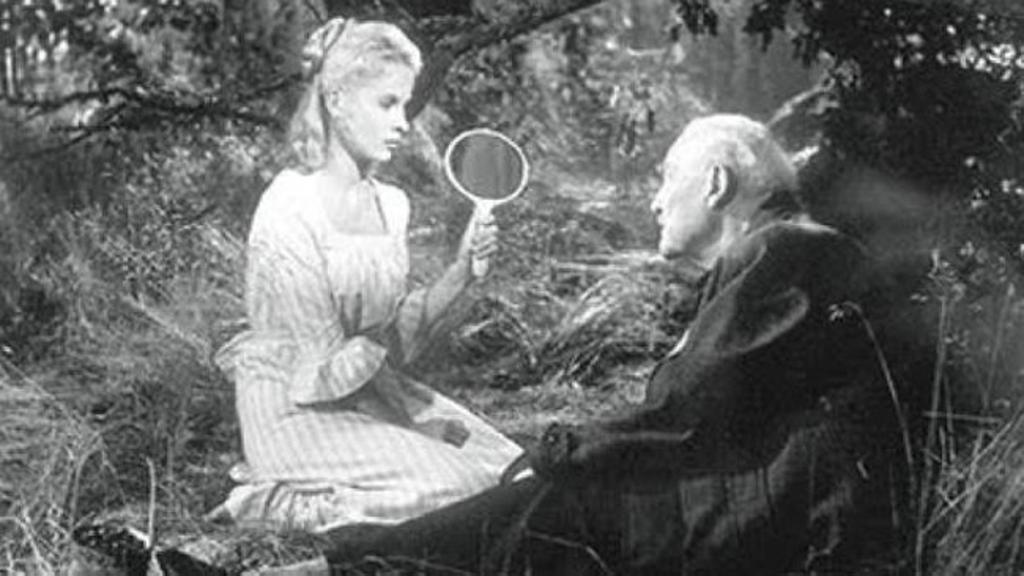face: (648, 140, 718, 246), (356, 62, 416, 158)
